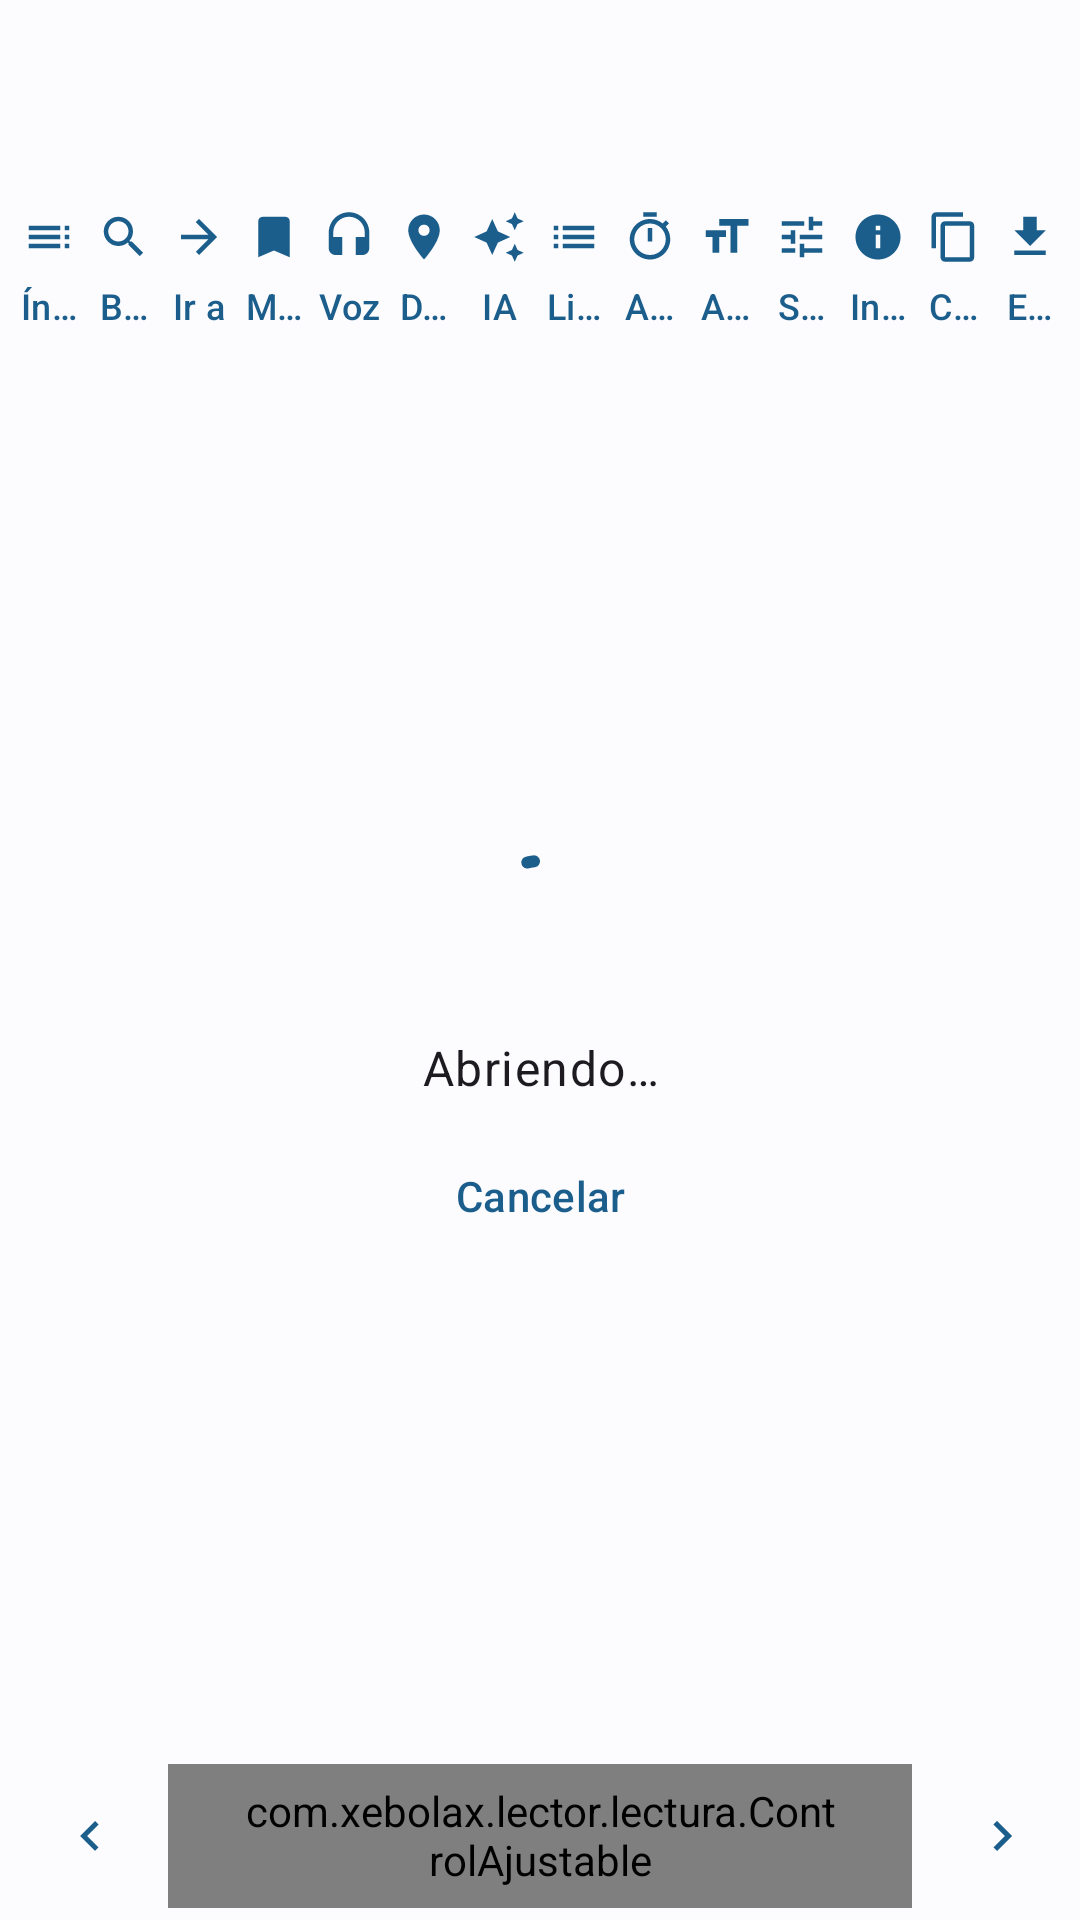

Screen size 1080×1920. Icon name, then its center in pixels as (x=x, y=y):
anterior: (x=89, y=1836)
siguiente: (x=1002, y=1836)
